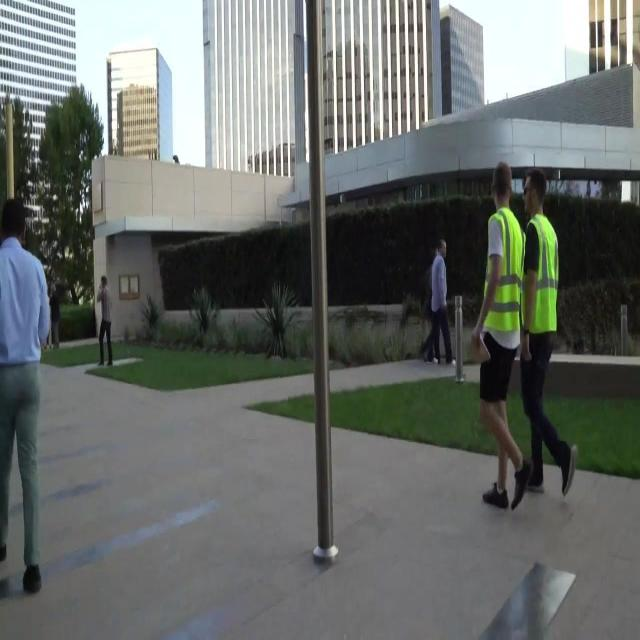Vest: (480, 208, 526, 328), (522, 212, 558, 334)
